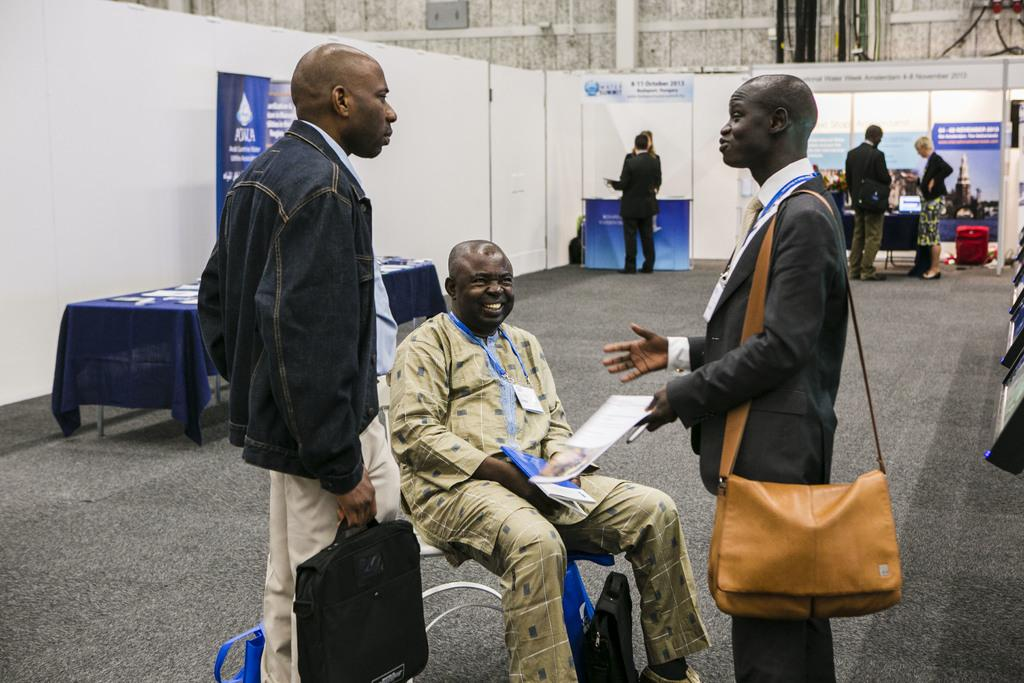Luggage-and-bags: (704, 189, 902, 623), (281, 499, 437, 675), (961, 225, 993, 263)
